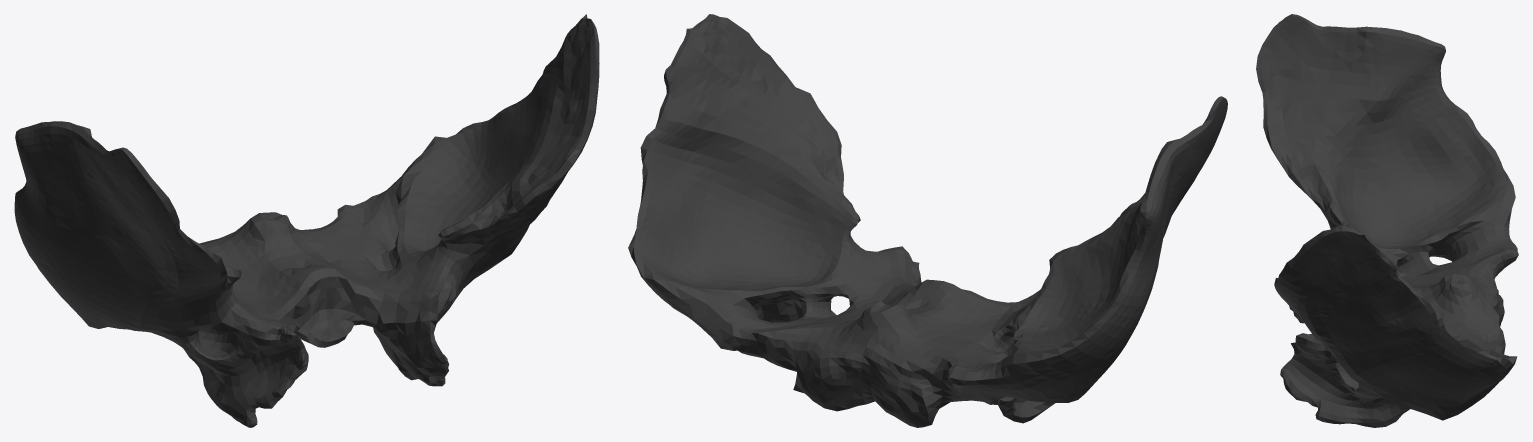
Rendered from Basisphenoid.glb.
The picture shows the model from 3 angles, left to right: view 1: azimuth 30°, elevation 25°; view 2: azimuth 150°, elevation 25°; view 3: azimuth 270°, elevation 25°; orthographic projection. The views are drawn at different scales.
Parts seen in each view (by area): view 1: Basisphenoid; view 2: Basisphenoid; view 3: Basisphenoid.
Part boxes in pixels (left/top/right/bottom): Basisphenoid: left=14, top=14, right=599, bottom=427; Basisphenoid: left=628, top=14, right=1227, bottom=427; Basisphenoid: left=1256, top=14, right=1518, bottom=427.
Size of the model in its own units: 351 by 215 by 183.
Materials: 1 (1 with a texture image).
